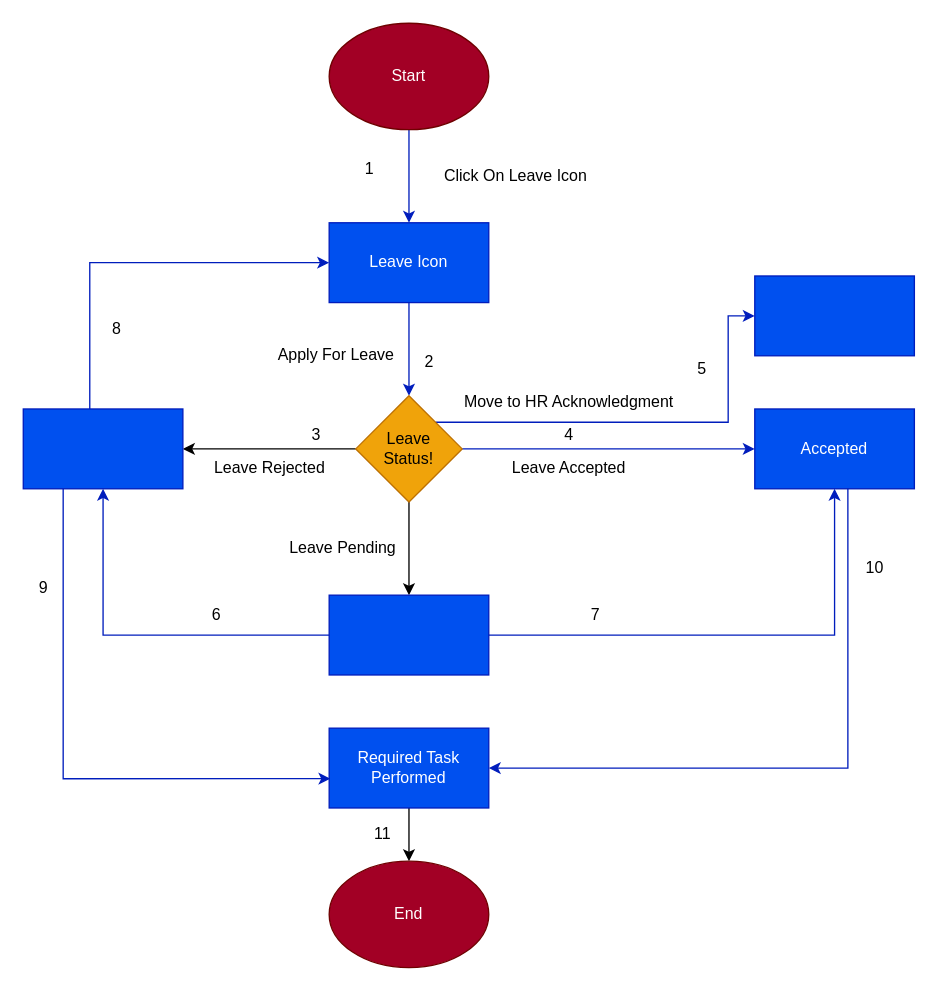
Some shapes in this 938 by 991 pixel diagram are drawn without their labels. Each missing label, with the box of its shape:
HR Acknowledgment: (753, 275, 914, 356)
Pending: (328, 594, 489, 675)
Rejected: (22, 408, 183, 489)
